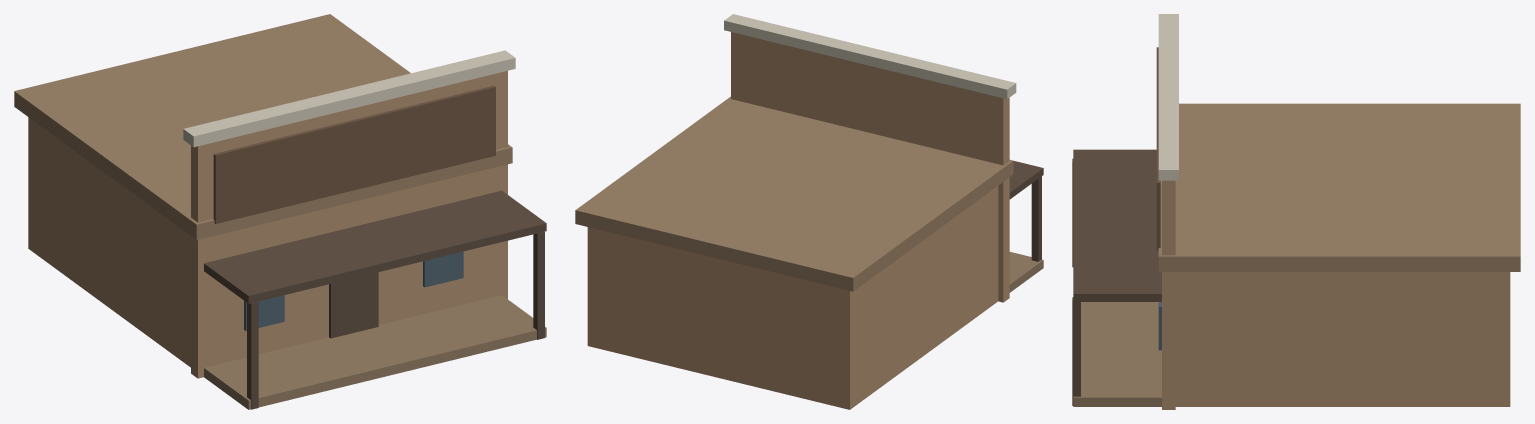
File: w_laden_a.glb
The picture shows the model from 3 angles, left to right: view 1: azimuth 30°, elevation 25°; view 2: azimuth 150°, elevation 25°; view 3: azimuth 270°, elevation 25°; orthographic projection. The views are drawn at different scales.
Parts seen in each view (by area): view 1: koerper; view 2: koerper; view 3: koerper.
Boxes of the visible parts, x1,y1,x2,y2 form: koerper: (14, 14, 546, 409); koerper: (575, 14, 1043, 409); koerper: (1072, 14, 1520, 409).
Bounding box in the file's own units: 10.8 × 7.85 × 13.12.
